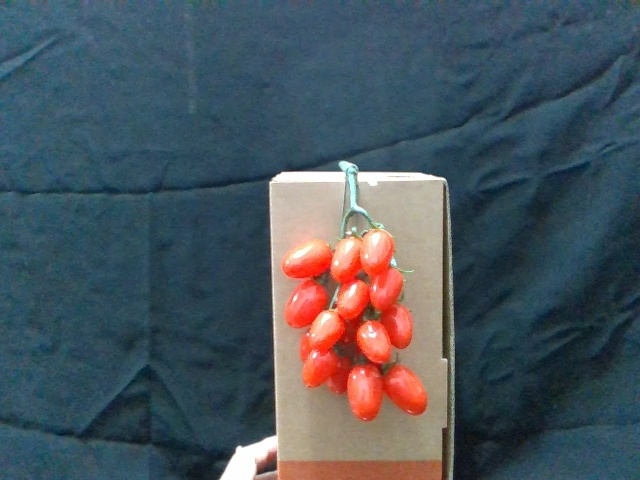tomato: (382, 359, 432, 419), (282, 279, 329, 328), (347, 363, 383, 424), (283, 240, 335, 282), (355, 318, 395, 369), (309, 308, 350, 355), (367, 264, 403, 316), (379, 303, 417, 350), (361, 229, 397, 276), (330, 235, 364, 284), (337, 276, 371, 322), (302, 352, 340, 390)
